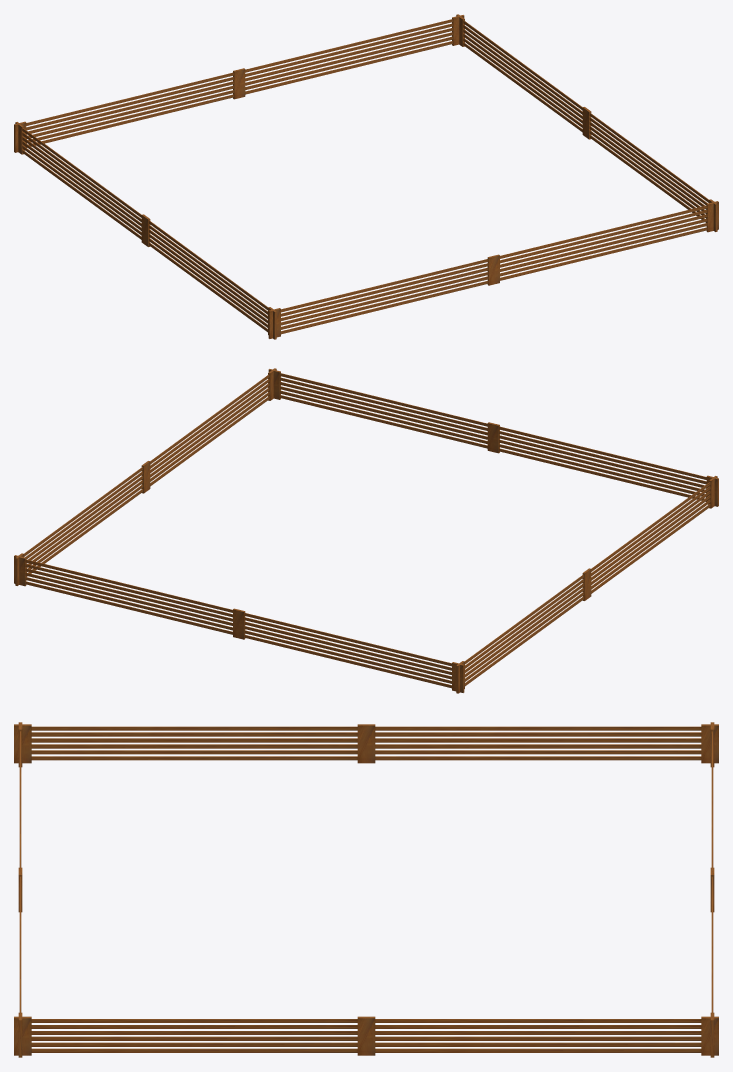
Rendered from fence.fbx.
3 views of the same model, one above another, from view 1: azimuth 30°, elevation 25°; view 2: azimuth 150°, elevation 25°; view 3: azimuth 270°, elevation 25° (orthographic). The views are drawn at different scales.
Parts seen in each view (by area): view 1: Rail_2_001; view 2: Rail_2_001; view 3: Rail_2_001.
Part boxes in pixels (x1,y1,x2,y2): Rail_2_001: (14,14,718,339); Rail_2_001: (14,368,718,693); Rail_2_001: (14,722,718,1057).
Size of the model in its own units: 94.27 by 5.54 by 94.27.
Materials: 4 (4 with a texture image).
